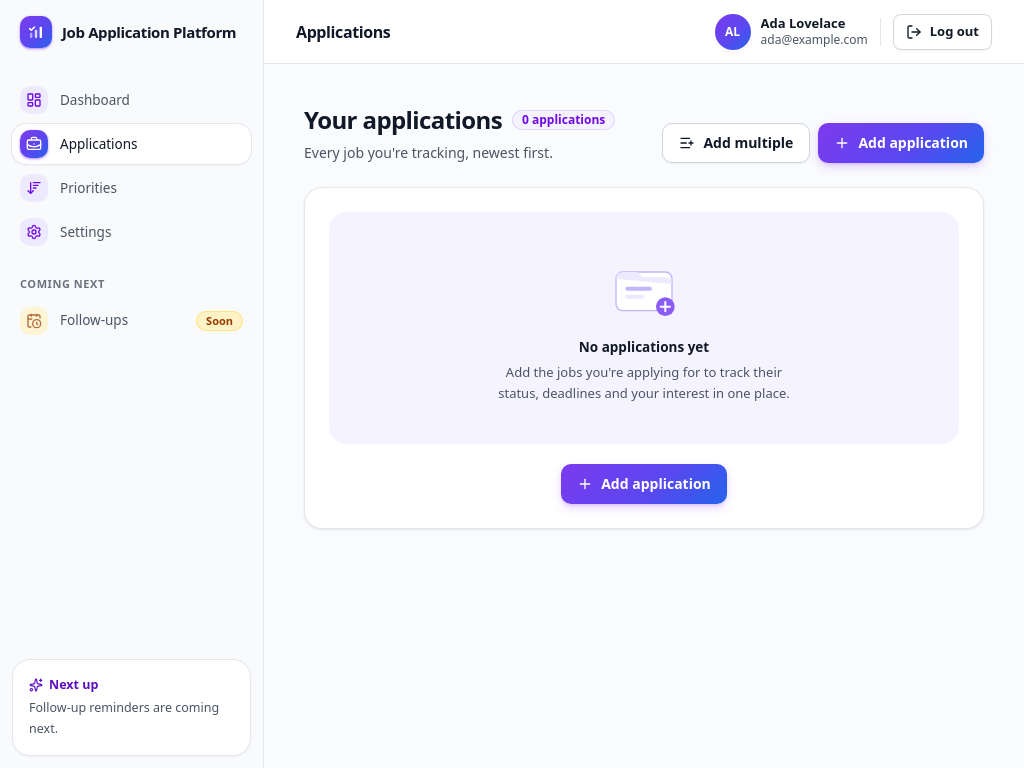
Test case: Add application › opens the form with all fields, defaults and required markers; Cancel closes without saving
Expected: the text "No applications yet" is shown, [579,337,709,358]
Click the button "Add application" next to "Add multiple". click: point(901, 143)
box: [818,123,984,163]
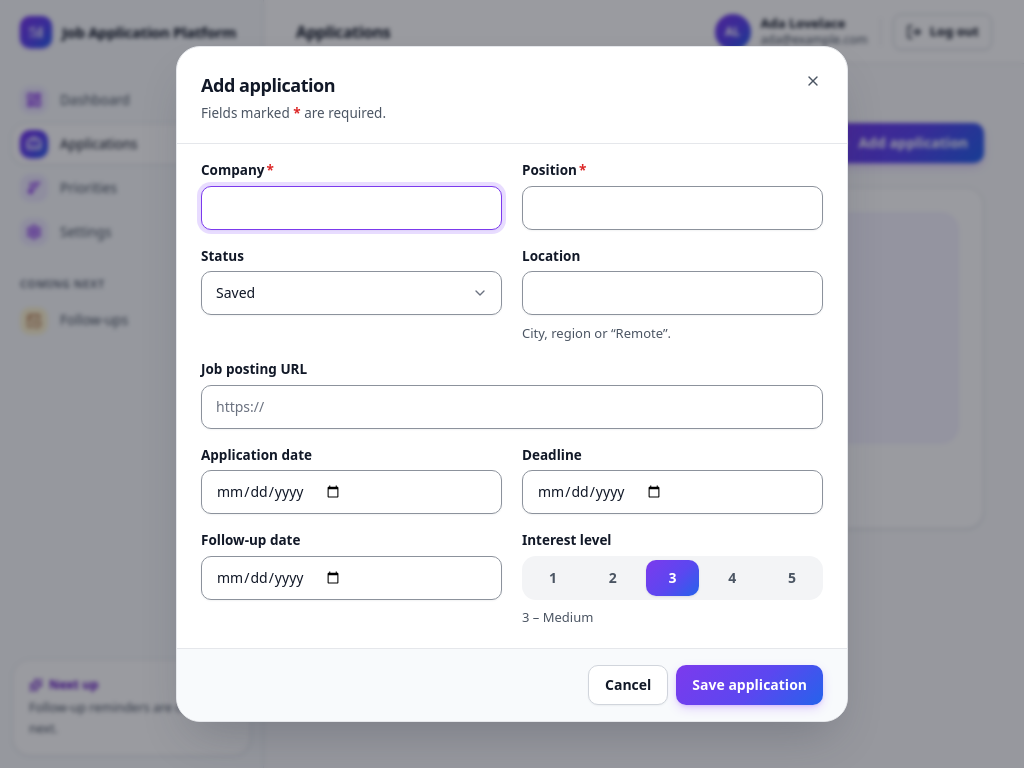
Result: the dropdown labelled "Status" shows "Saved" at [201,271,502,315]
Result: the element "Interest level" is shown at [522,534,823,627]
Result: the radio button named "3 – Medium" is checked at [646,560,699,596]
Click the button "Cancel". click: point(628, 685)
box: [588,665,668,705]
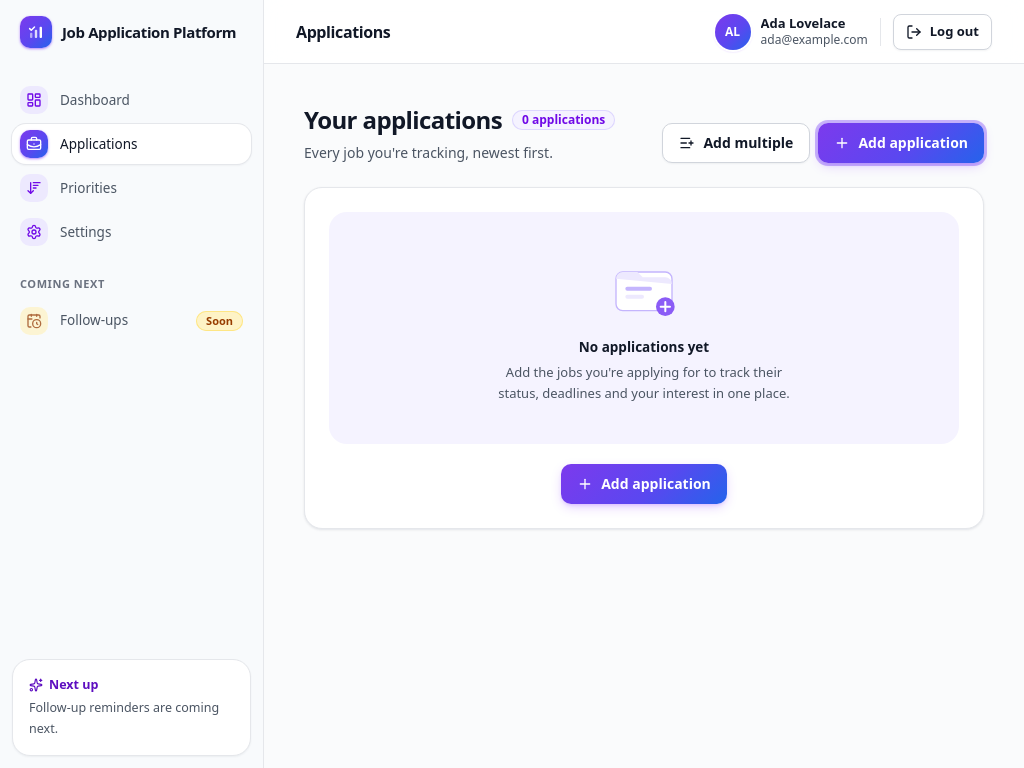
Result: the dialog is gone
